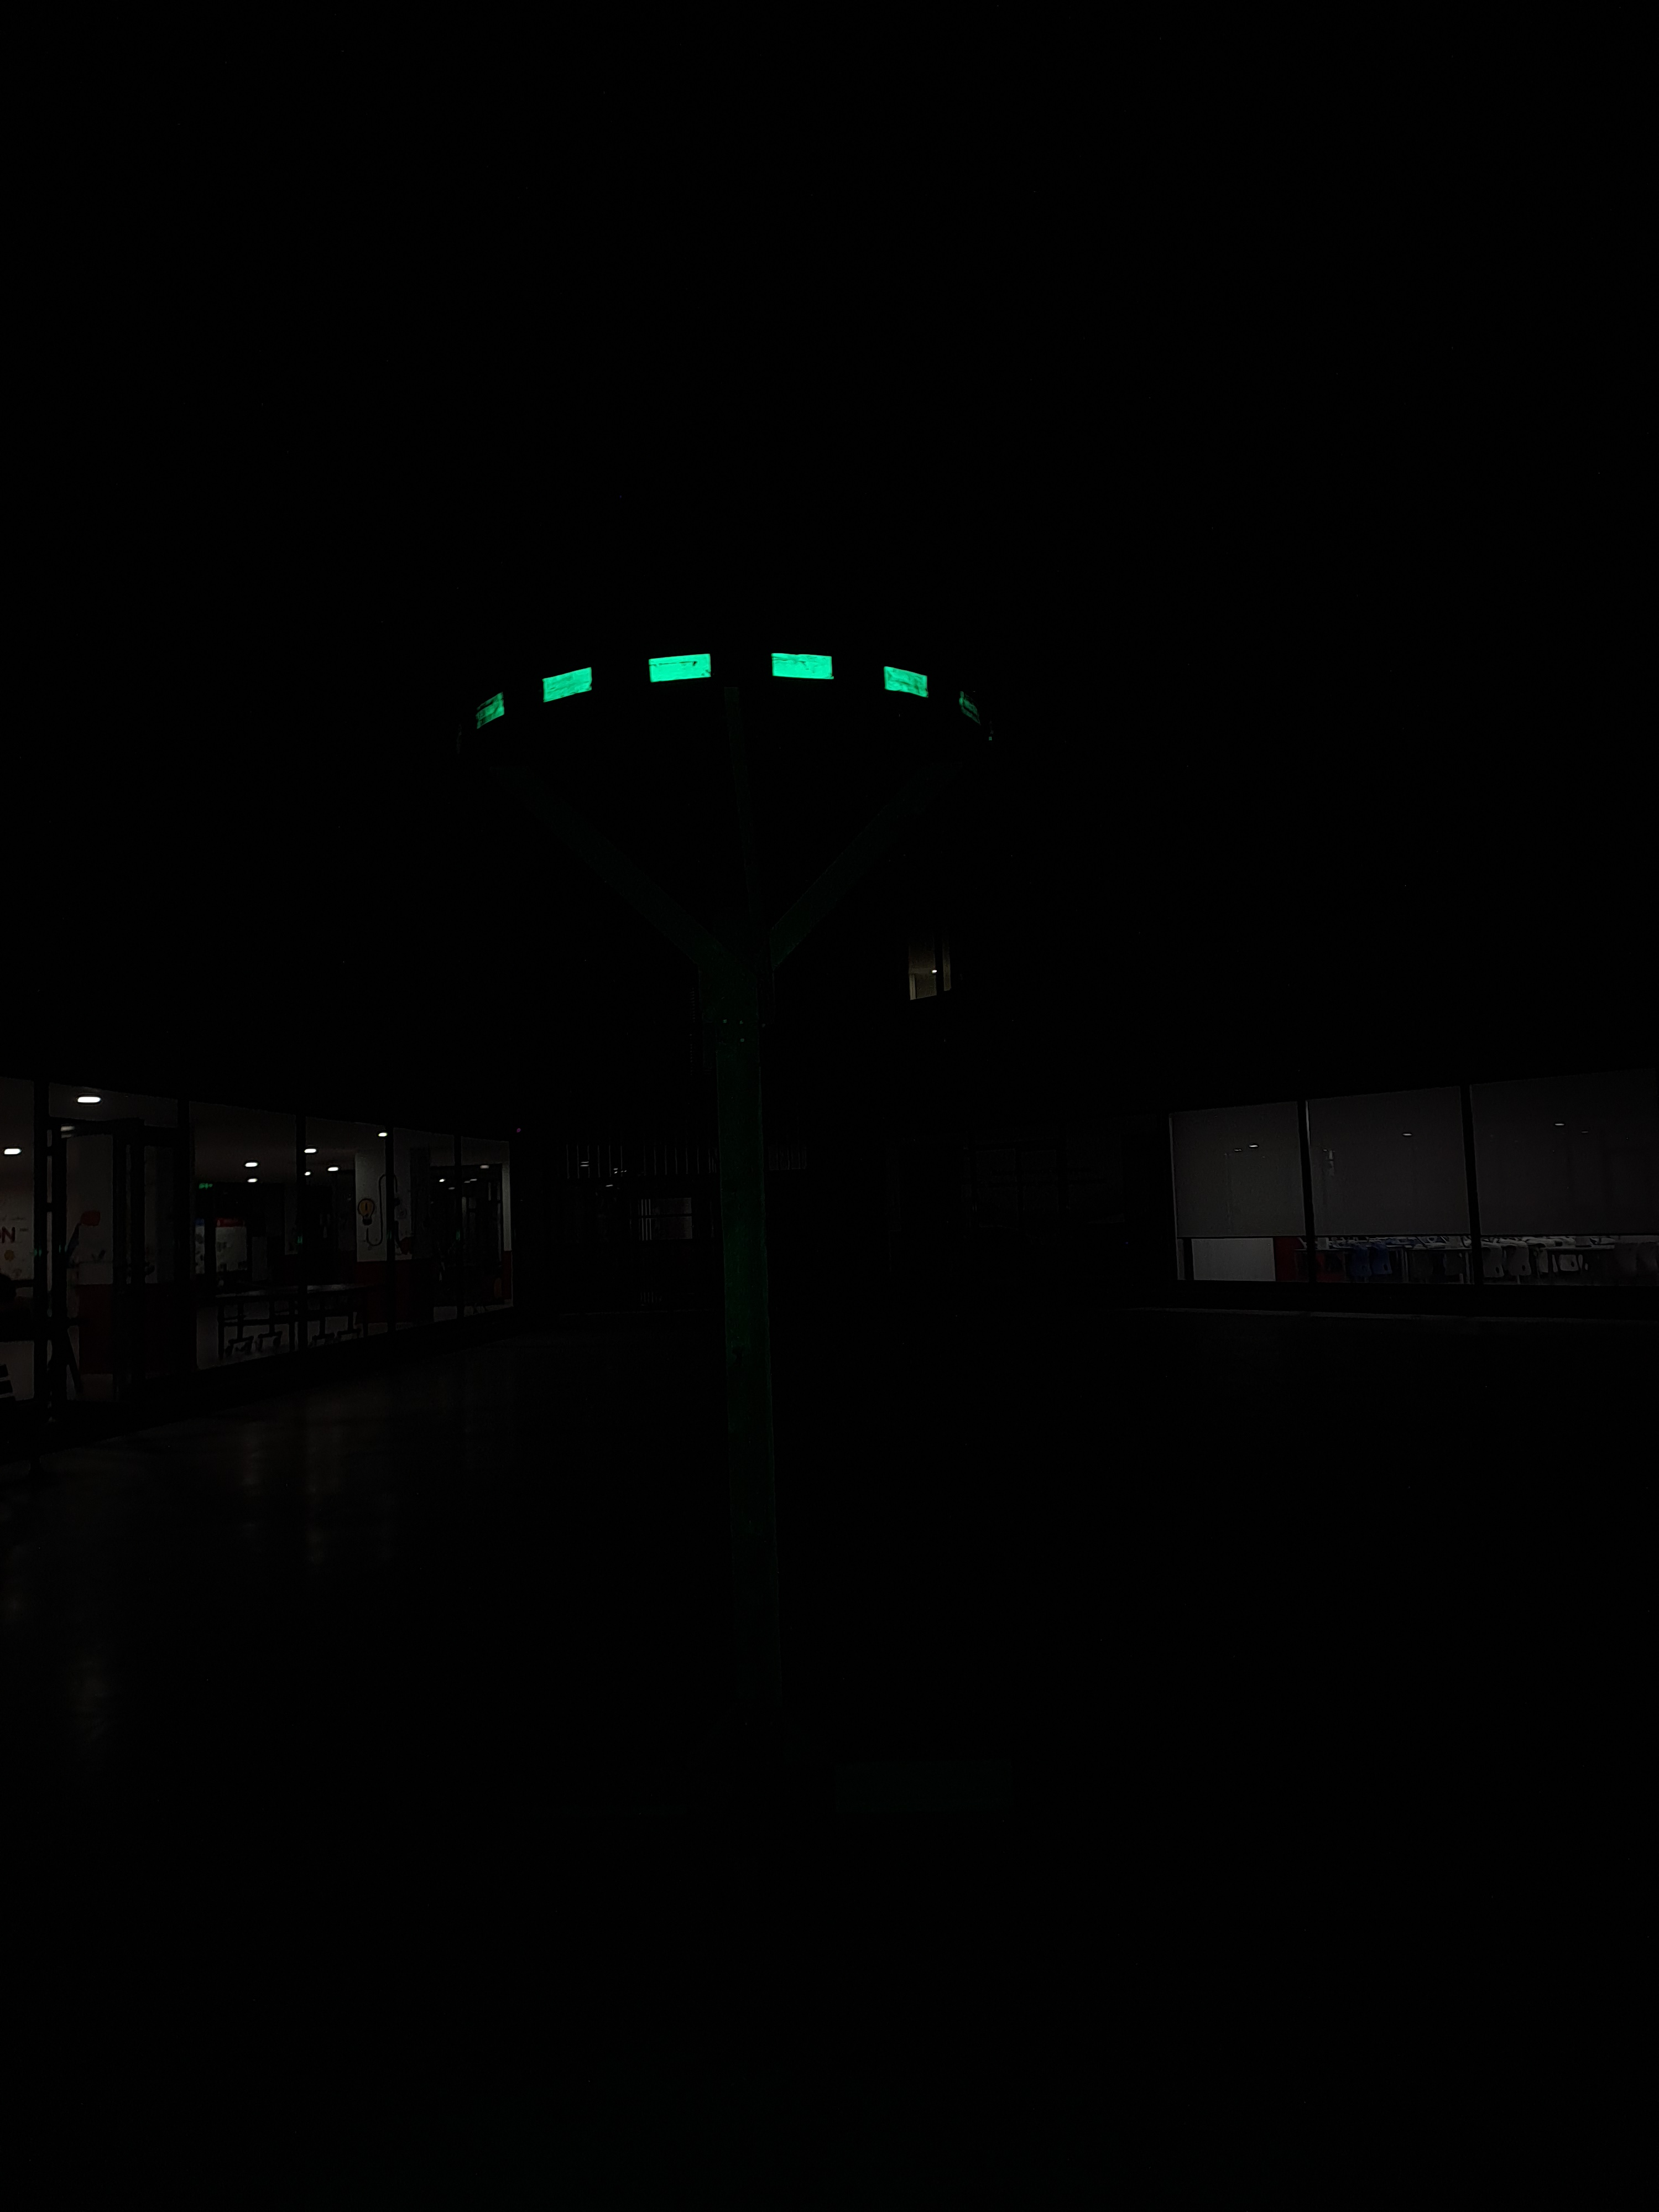hoop: (467, 636, 938, 742)
